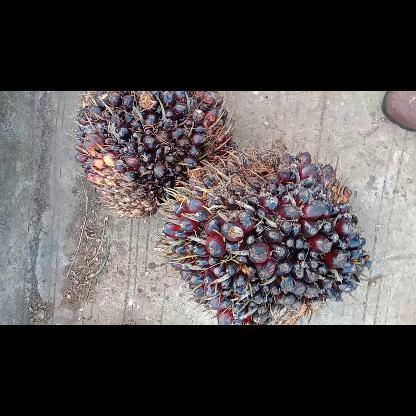TBS mentah: (161, 146, 371, 324), (75, 91, 233, 219)
